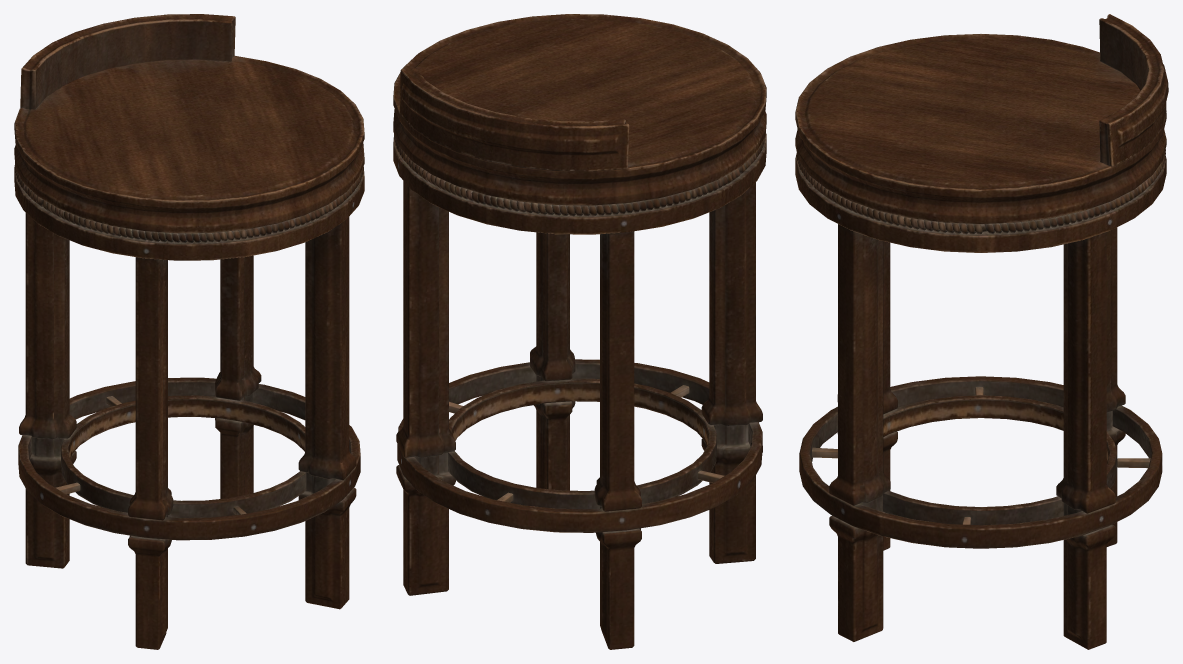
File: bar-stool.glb
3 renders of one model, left to right at view 1: azimuth 30°, elevation 25°; view 2: azimuth 150°, elevation 25°; view 3: azimuth 270°, elevation 25°, orthographic. The views are drawn at different scales.
Visible parts, largest first — view 1: bar_chair_round_01; view 2: bar_chair_round_01; view 3: bar_chair_round_01.
Boxes of the visible parts, x1=… form: bar_chair_round_01: x1=14, y1=14, x2=364, y2=649; bar_chair_round_01: x1=393, y1=14, x2=766, y2=649; bar_chair_round_01: x1=795, y1=14, x2=1168, y2=649.
Size of the model in its own units: 0.4832 by 0.7505 by 0.486.
1 material, 1 textured.
